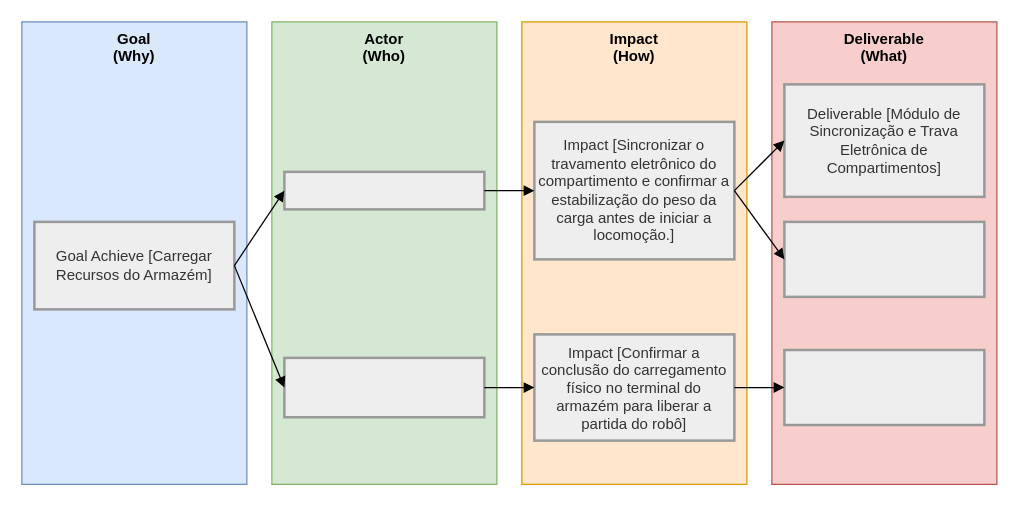
Some shapes in this 1019 by 506 pixel diagram are drawn without their labels. Each missing label, with the centre of its shape:
Actor [Almoxarife / Operador de Estoque]: point 383,387
Actor [Robô]: point 383,190
Deliverable [Painel Digital de Separação para Operadores de Armazém]: point 883,387
Deliverable [Sensores de Presença e Monitoramento de Peso Interno de Carga]: point 883,259
